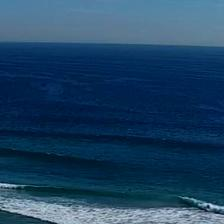surfer: (206, 205, 210, 209), (127, 188, 131, 190)
